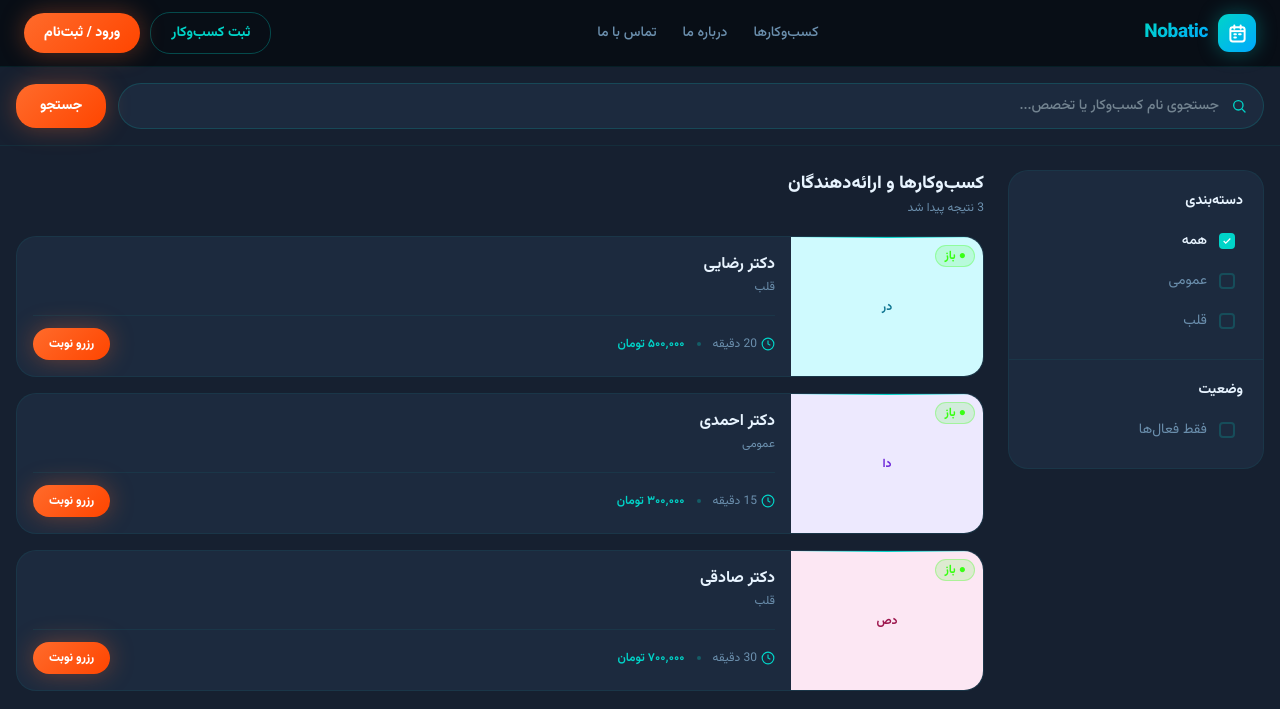
it: ProviderListPage › filters providers by clicking a category in sidebar
This screenshot has width=1280, height=709.
What coordinates should you click on to do the following:
click the text "قلب" below "همه"
I would click on:
 (1195, 321)
Its box is [1183,311,1207,331].
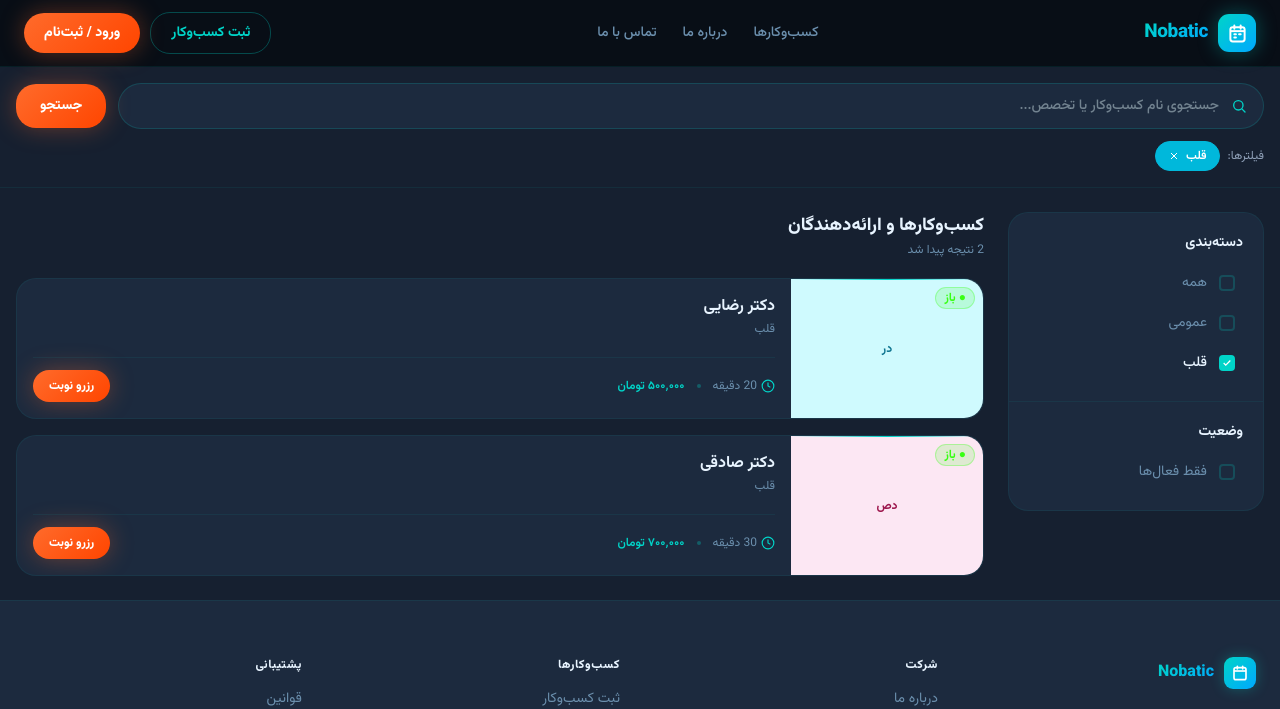
expect the heading "دکتر رضایی" is shown: met, box [704,294,775,319]
expect the heading "دکتر احمدی" is gone: met
